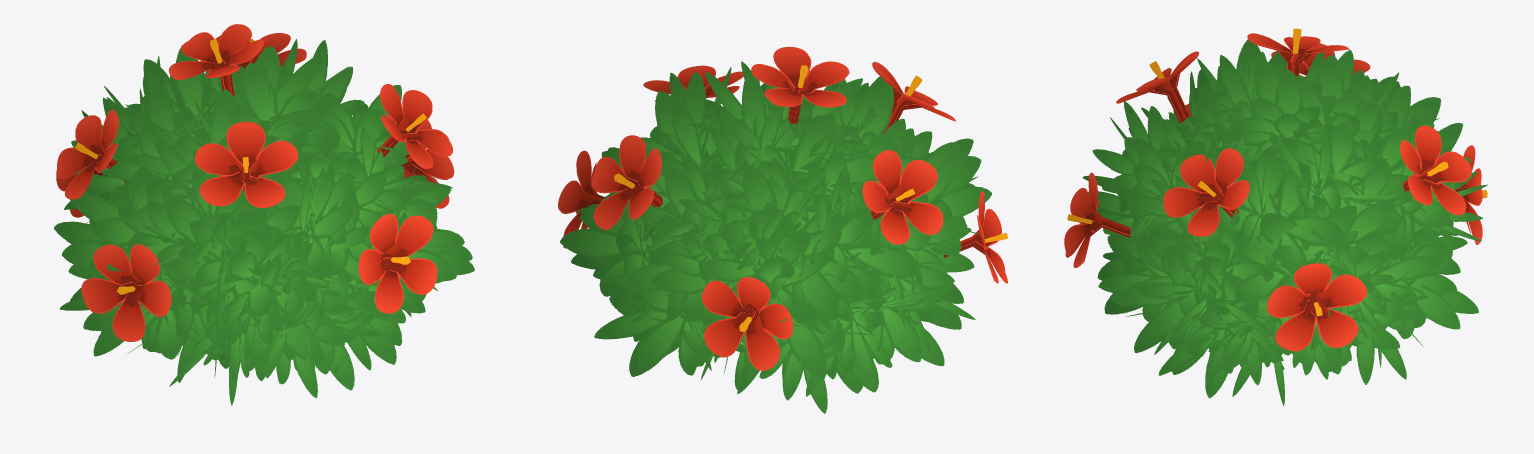
File: HibiscusHand_red.fbx
The picture shows the model from 3 angles, left to right: view 1: azimuth 30°, elevation 25°; view 2: azimuth 150°, elevation 25°; view 3: azimuth 270°, elevation 25°; orthographic projection.
Visible parts, largest first — view 1: Bush (1), Hibiscus (1); view 2: Bush (1), Hibiscus (1); view 3: Bush (1), Hibiscus (1).
Part boxes in pixels (<box>): Bush (1): <box>54,39,474,405</box>; Hibiscus (1): <box>56,24,454,341</box>; Bush (1): <box>560,61,991,413</box>; Hibiscus (1): <box>558,46,1007,370</box>; Bush (1): <box>1082,39,1487,405</box>; Hibiscus (1): <box>1064,28,1487,351</box>.
Bounding box in the file's own units: 1.36 × 1.15 × 1.34.
